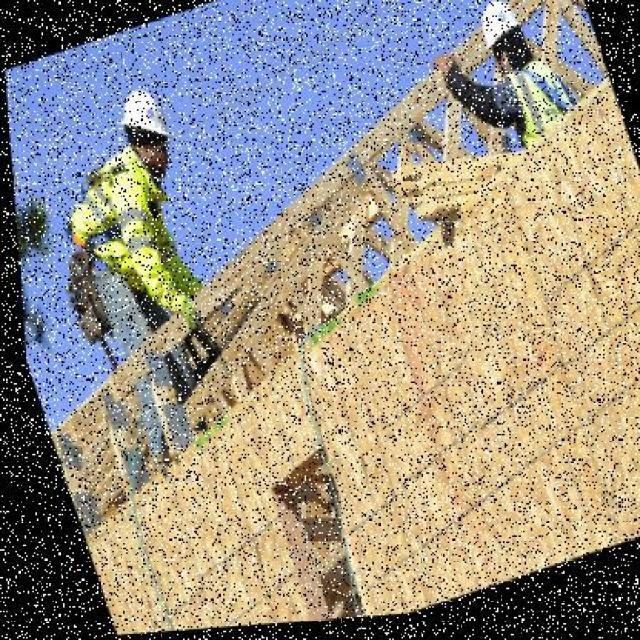helmet: (111, 83, 167, 151), (473, 0, 525, 54)
vest: (48, 142, 180, 306), (497, 56, 585, 158)
